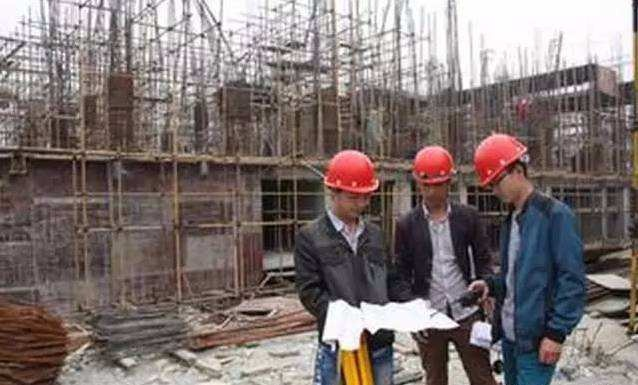red: (474, 132, 534, 201), (323, 147, 377, 215), (410, 143, 456, 205)
